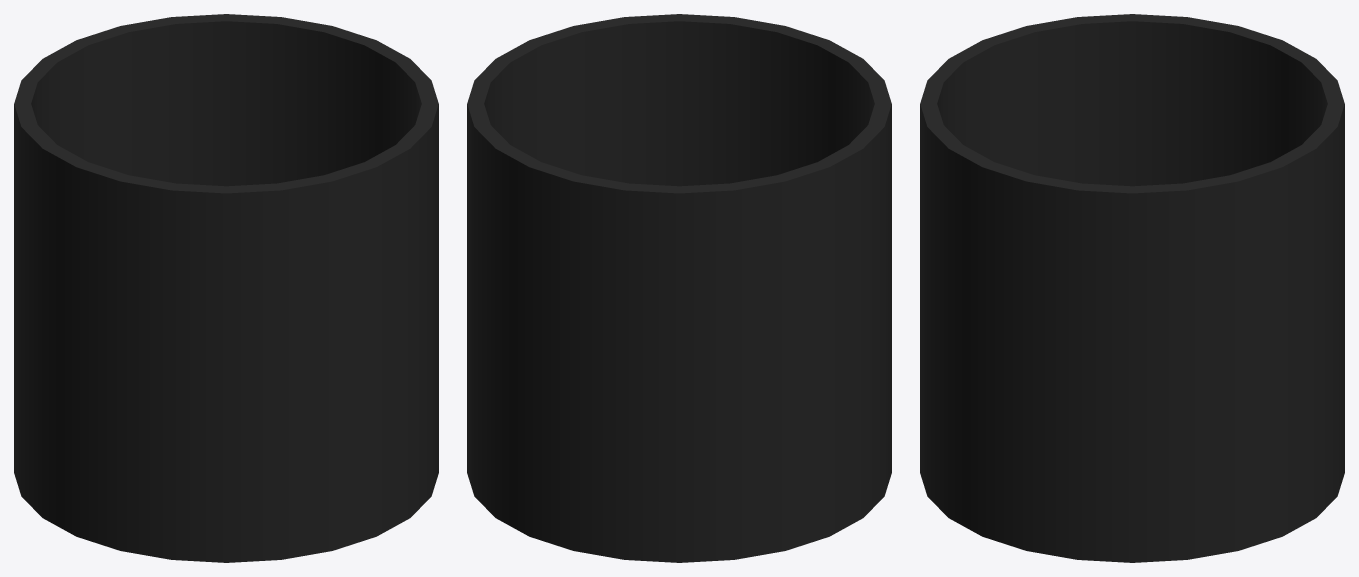
The model's file is Arrow_SRM_0_1_Fairing.obj.
The picture shows the model from 3 angles, left to right: view 1: azimuth 30°, elevation 25°; view 2: azimuth 150°, elevation 25°; view 3: azimuth 270°, elevation 25°; orthographic projection.
Parts seen in each view (by area): view 1: Arrow_SRM_0_1_Fairing; view 2: Arrow_SRM_0_1_Fairing; view 3: Arrow_SRM_0_1_Fairing.
Boxes of the visible parts, x1,y1,x2,y2 form: Arrow_SRM_0_1_Fairing: (14, 14, 438, 562); Arrow_SRM_0_1_Fairing: (467, 14, 891, 562); Arrow_SRM_0_1_Fairing: (920, 14, 1344, 562).
Size of the model in its own units: 0.625 by 0.6 by 0.625.
